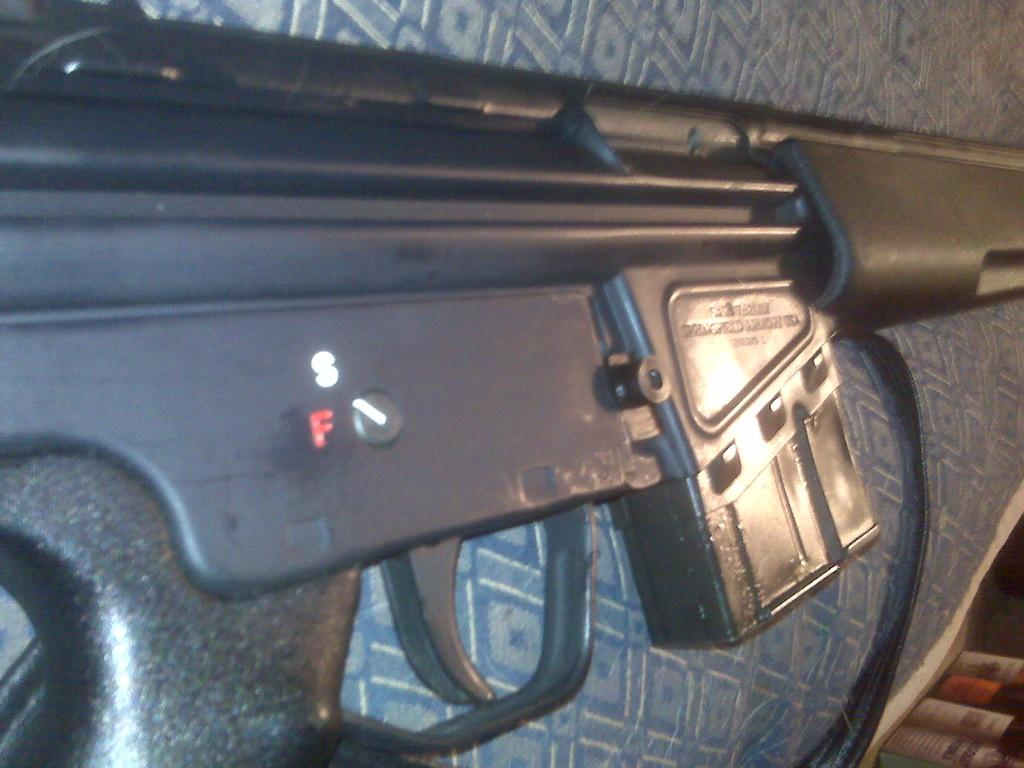Shotgun: (1, 4, 1023, 767)
